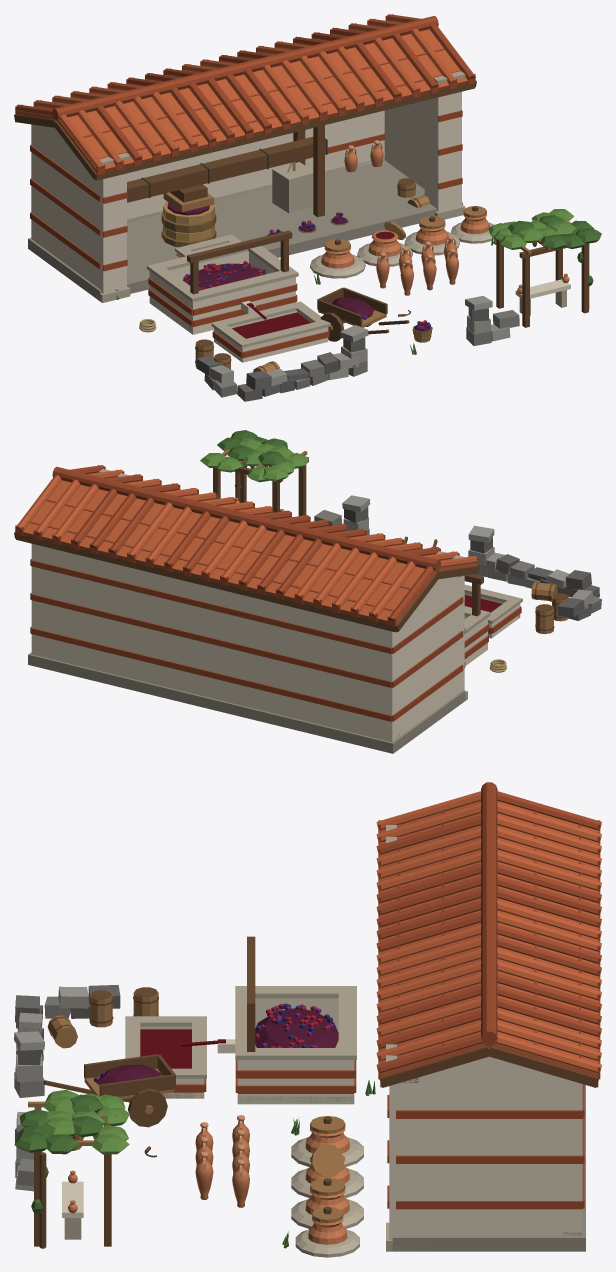
The model's file is Kelterei.fbx.
The picture shows the model from 3 angles, top to bottom: view 1: azimuth 30°, elevation 25°; view 2: azimuth 150°, elevation 25°; view 3: azimuth 270°, elevation 25°; orthographic projection. The views are drawn at different scales.
Visible parts, largest first — view 1: Kelterei_0; view 2: Kelterei_0; view 3: Kelterei_0.
Boxes of the visible parts, x1=… form: Kelterei_0: x1=14, y1=14, x2=601, y2=401; Kelterei_0: x1=14, y1=430, x2=601, y2=753; Kelterei_0: x1=14, y1=782, x2=601, y2=1257.
Bounding box in the file's own units: 3.55 × 1.5 × 3.53.
